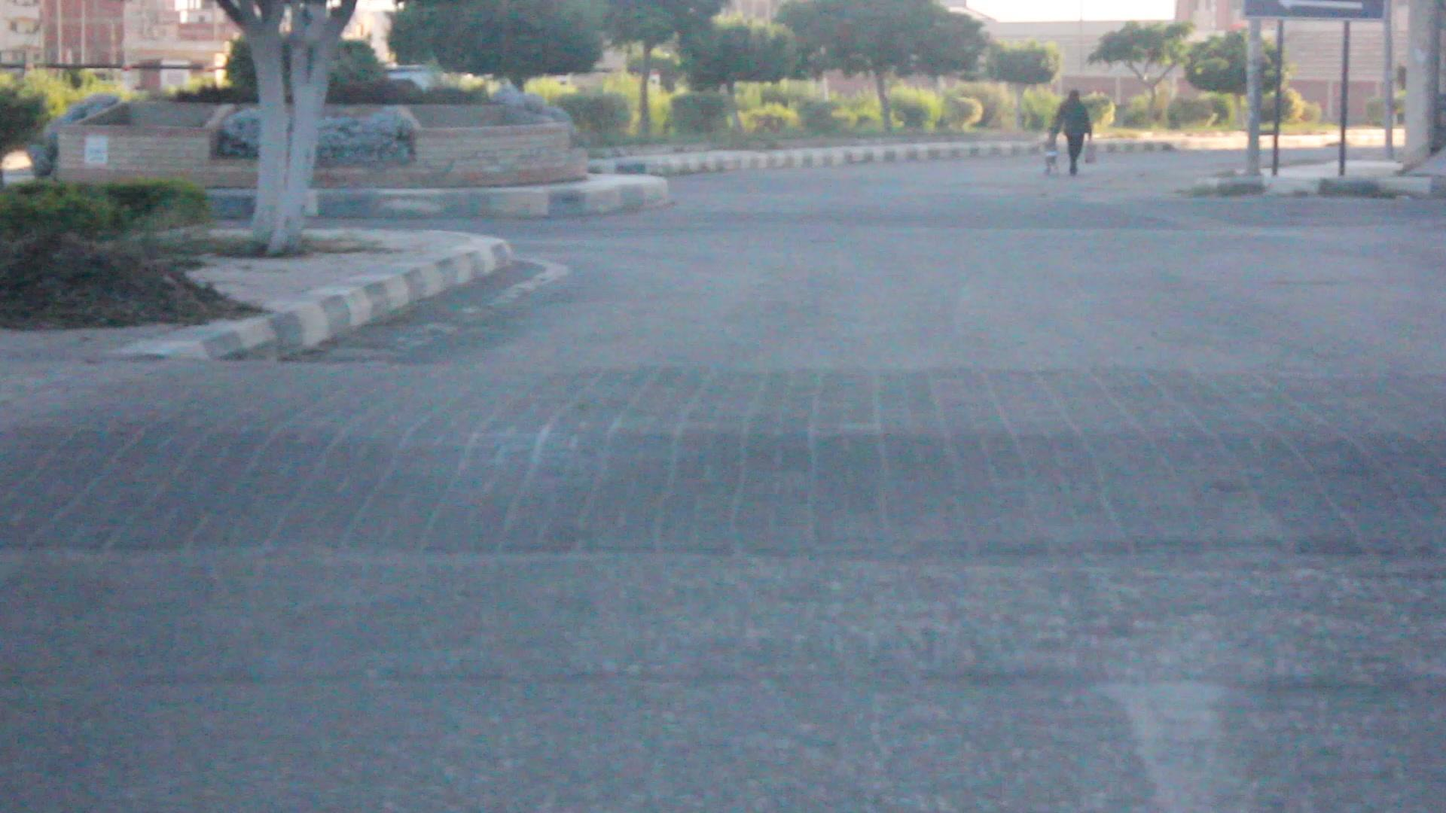Bump: (6, 347, 1444, 568)
